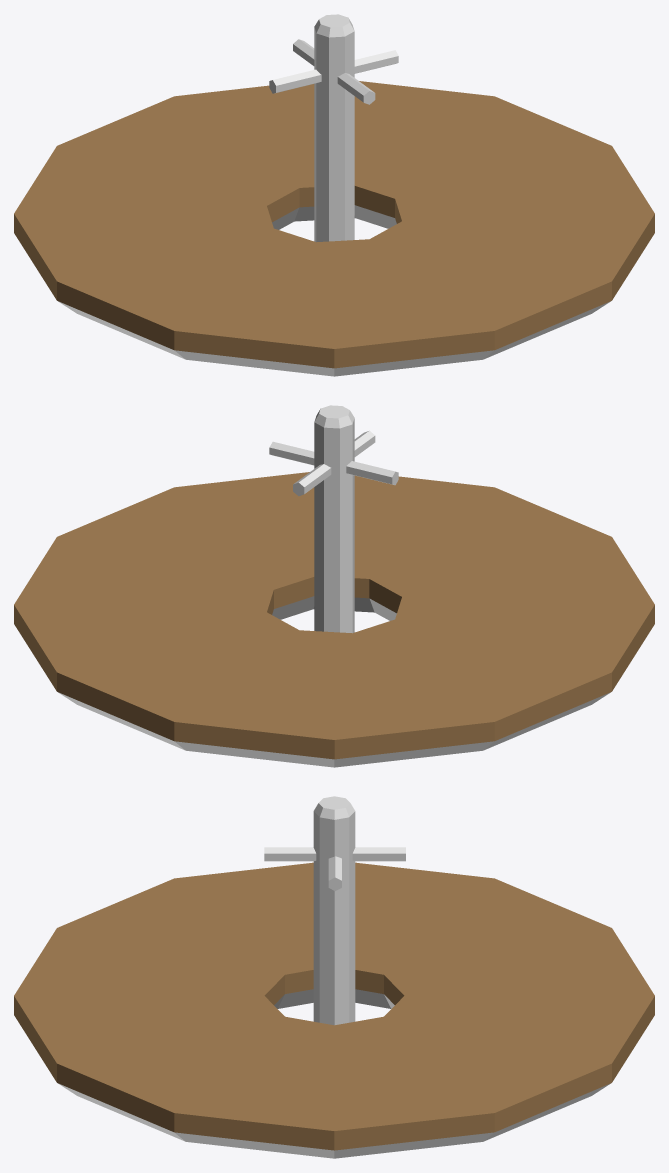
The model's file is carousel_01.fbx.
The picture shows the model from 3 angles, top to bottom: view 1: azimuth 30°, elevation 25°; view 2: azimuth 150°, elevation 25°; view 3: azimuth 270°, elevation 25°; orthographic projection.
Visible parts, largest first — view 1: carousel_01; view 2: carousel_01; view 3: carousel_01.
Boxes of the visible parts, x1,y1,x2,y2 form: carousel_01: (14,14,654,376); carousel_01: (14,405,654,767); carousel_01: (14,796,654,1158).
Bounding box in the file's own units: 300 × 144 × 300.
